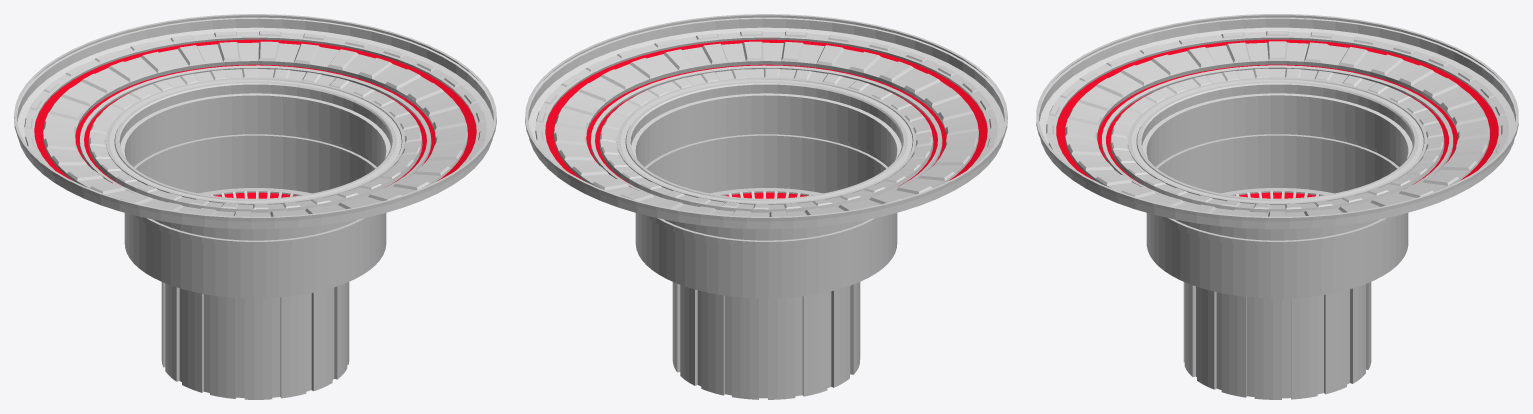
File: m6ArenaL2Outer2.fbx
3 views of the same model, side by side, from view 1: azimuth 30°, elevation 25°; view 2: azimuth 150°, elevation 25°; view 3: azimuth 270°, elevation 25° (orthographic).
Visible parts, largest first — view 1: Cylinder.050; view 2: Cylinder.050; view 3: Cylinder.050.
Part boxes in pixels (x1,y1,x2,y2): Cylinder.050: (14,14,496,399); Cylinder.050: (525,14,1007,399); Cylinder.050: (1036,14,1518,399).
Bounding box in the file's own units: 334 × 187 × 334.
